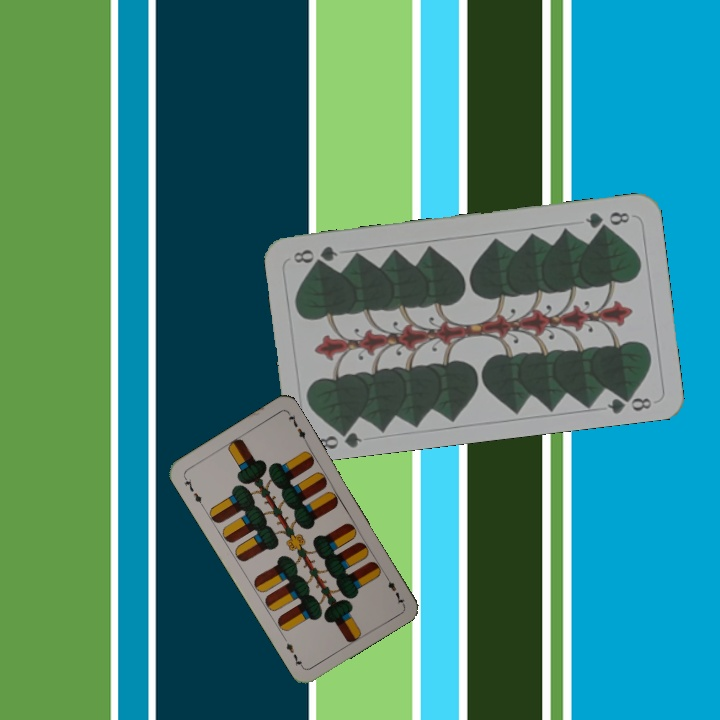E7: (179, 473, 206, 509), (380, 570, 406, 607)
G8: (314, 422, 365, 452), (581, 207, 633, 232)
